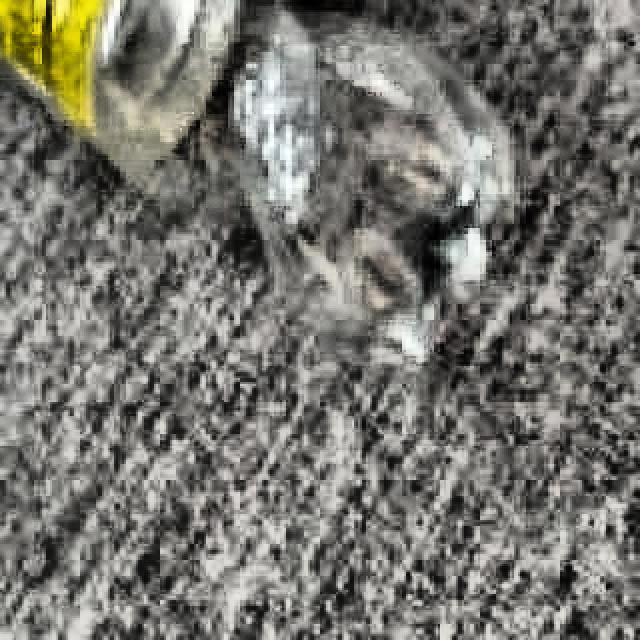plastic: (0, 0, 508, 306)
